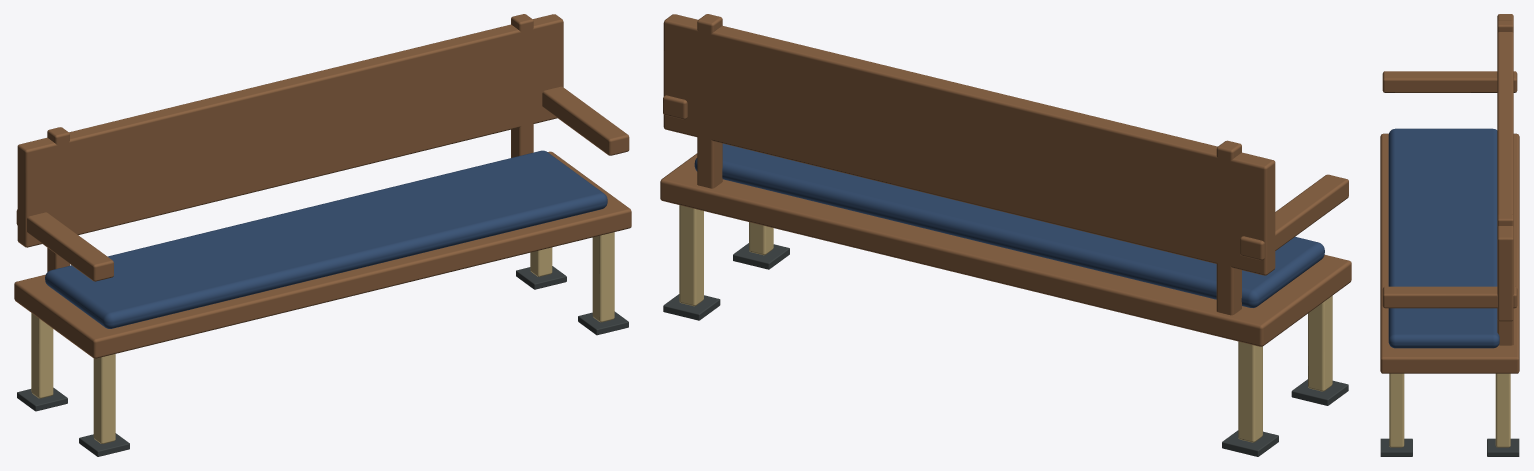
Rendered from tribunal_galeria_banco.glb.
3 renders of one model, left to right at view 1: azimuth 30°, elevation 25°; view 2: azimuth 150°, elevation 25°; view 3: azimuth 270°, elevation 25°, orthographic. The views are drawn at different scales.
Visible parts, largest first — view 1: city-courthouse-and-records-office-public-gallery-bench; view 2: city-courthouse-and-records-office-public-gallery-bench; view 3: city-courthouse-and-records-office-public-gallery-bench.
Part boxes in pixels (left/top/right/bottom): city-courthouse-and-records-office-public-gallery-bench: left=14, top=14, right=631, bottom=456; city-courthouse-and-records-office-public-gallery-bench: left=660, top=14, right=1351, bottom=456; city-courthouse-and-records-office-public-gallery-bench: left=1380, top=14, right=1519, bottom=456.
Size of the model in its own units: 2.3 by 1.08 by 0.6001.
